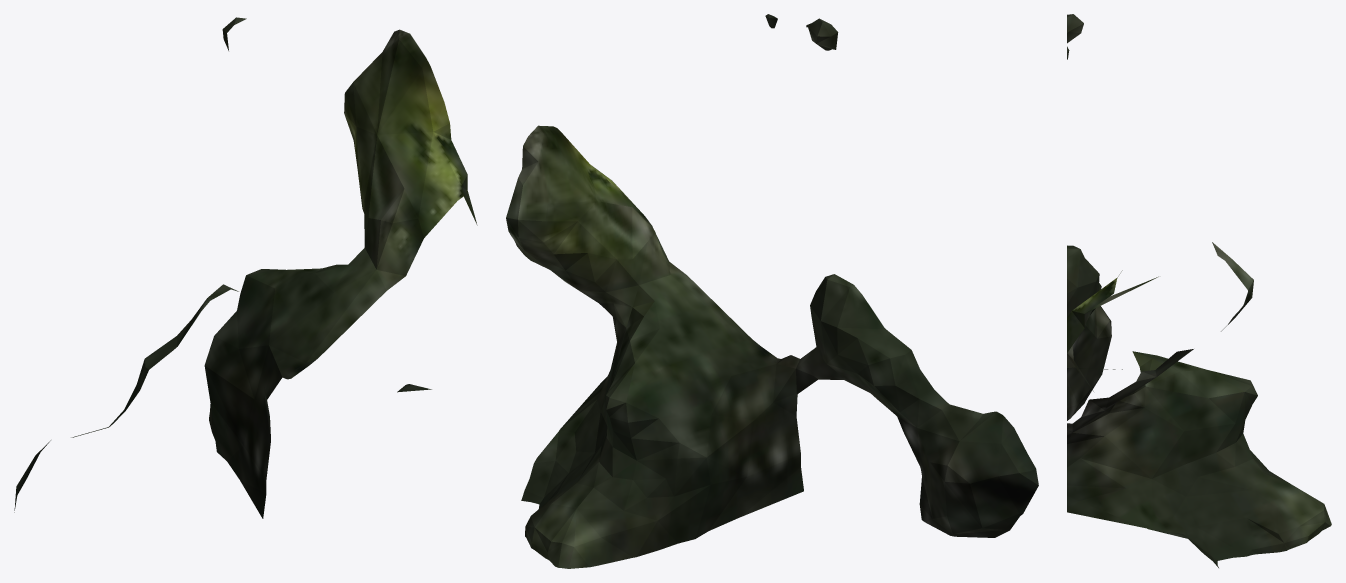
3 renders of one model, left to right at view 1: azimuth 30°, elevation 25°; view 2: azimuth 150°, elevation 25°; view 3: azimuth 270°, elevation 25°, orthographic. The views are drawn at different scales.
Bounding box in the file's own units: 1.03 × 1.08 × 0.5718.
Materials: 1 (1 with a texture image).
